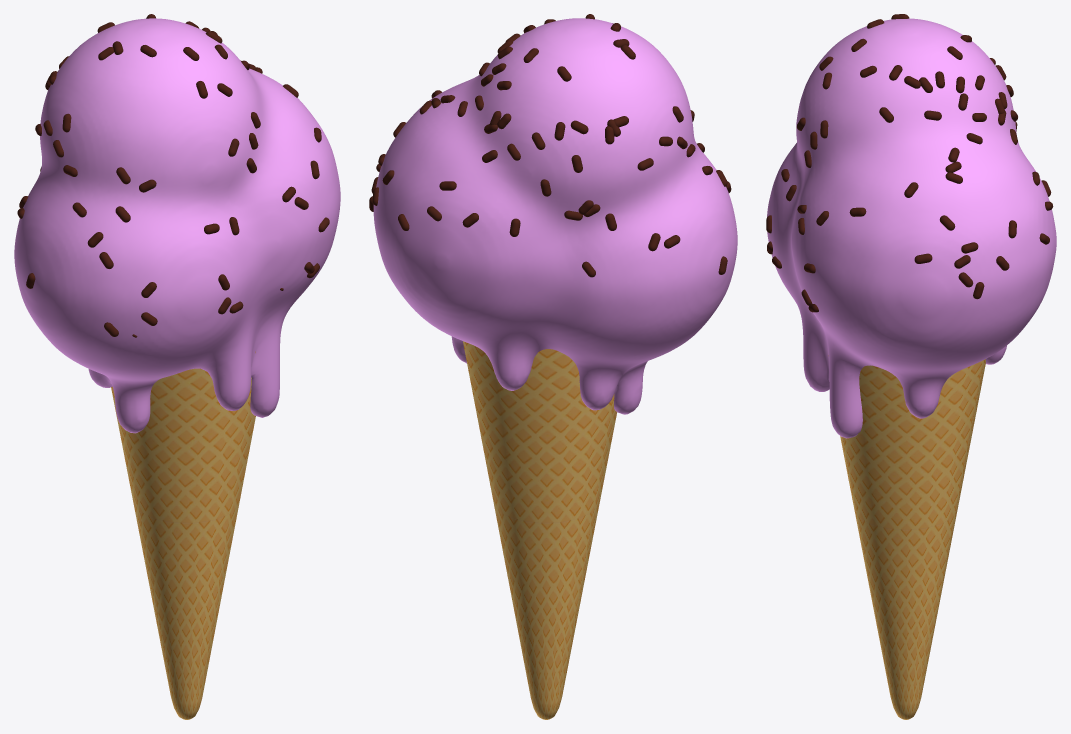
Rendered from sorvete.fbx.
The picture shows the model from 3 angles, left to right: view 1: azimuth 30°, elevation 25°; view 2: azimuth 150°, elevation 25°; view 3: azimuth 270°, elevation 25°; orthographic projection. The views are drawn at different scales.
Parts seen in each view (by area): view 1: Volume_Mesher, Cone; view 2: Volume_Mesher, Cone; view 3: Volume_Mesher, Cone.
Boxes of the visible parts, <box> form: Volume_Mesher: <box>14,18,340,433</box>; Cone: <box>111,351,255,719</box>; Volume_Mesher: <box>373,18,737,414</box>; Cone: <box>463,341,617,719</box>; Volume_Mesher: <box>767,18,1056,438</box>; Cone: <box>828,355,985,719</box>.
Size of what is drawn, in the model's own units: 154 by 326 by 128.
Materials: 3 (1 with a texture image).
